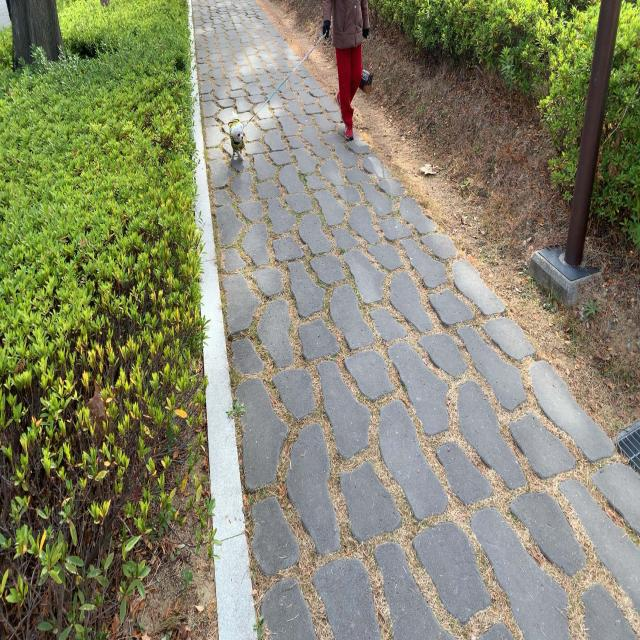Leashed_Dog: (228, 26, 347, 162)
